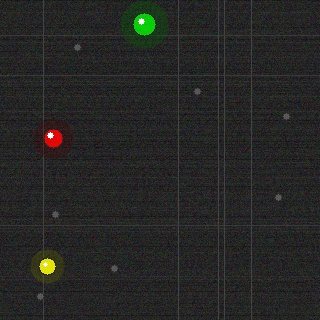green_normal: (131, 11, 157, 37)
red_fault: (42, 127, 64, 149)
yellow_warning: (37, 256, 57, 276)
